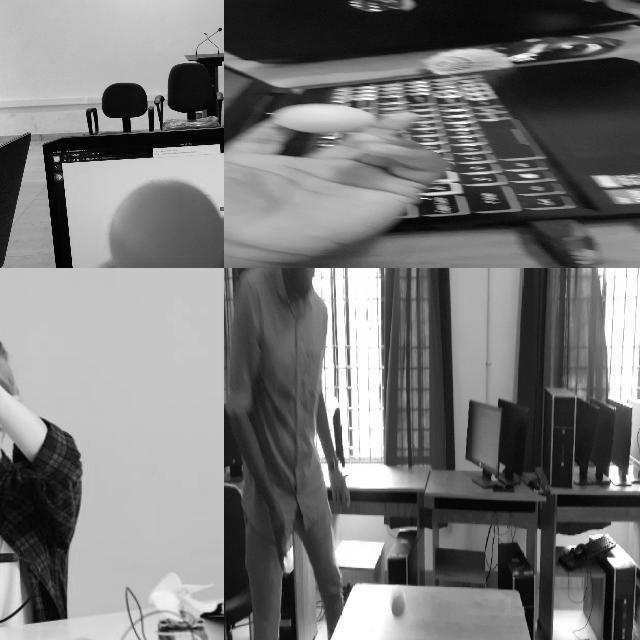ping-pong-ball: (108, 180, 223, 267), (272, 103, 370, 134), (388, 583, 406, 621)
